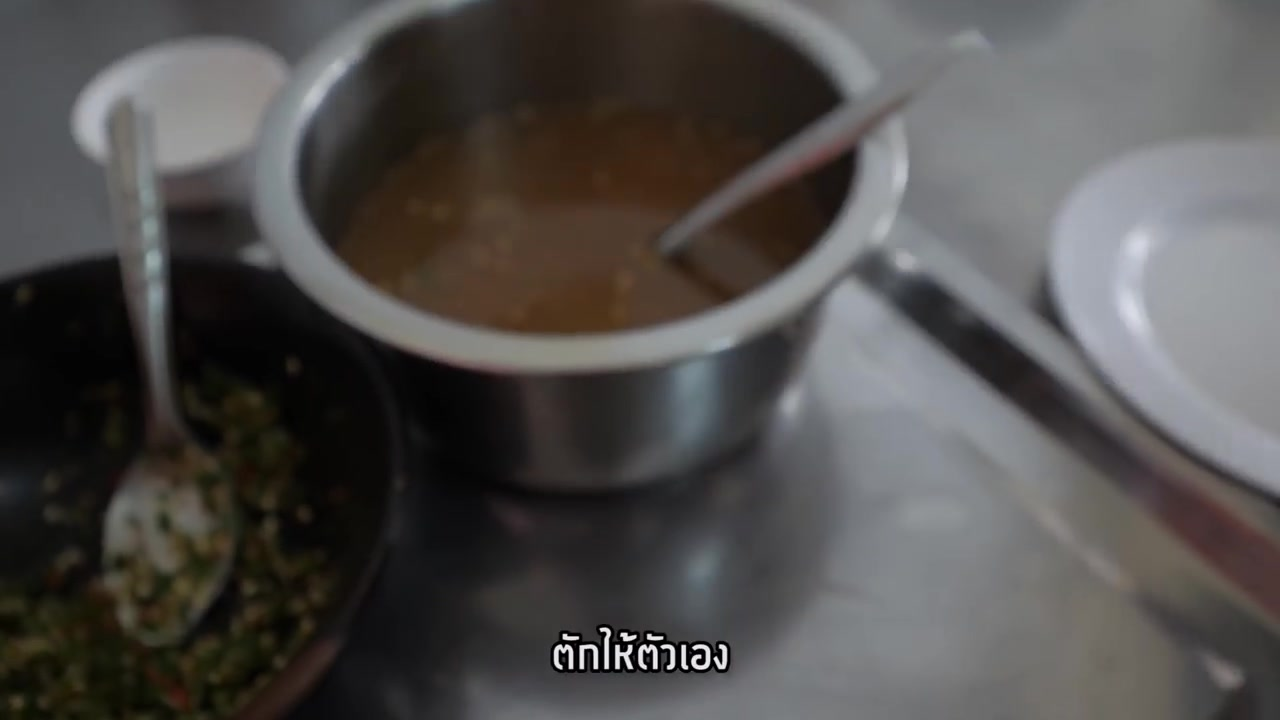text-label: (546, 623, 734, 675)
